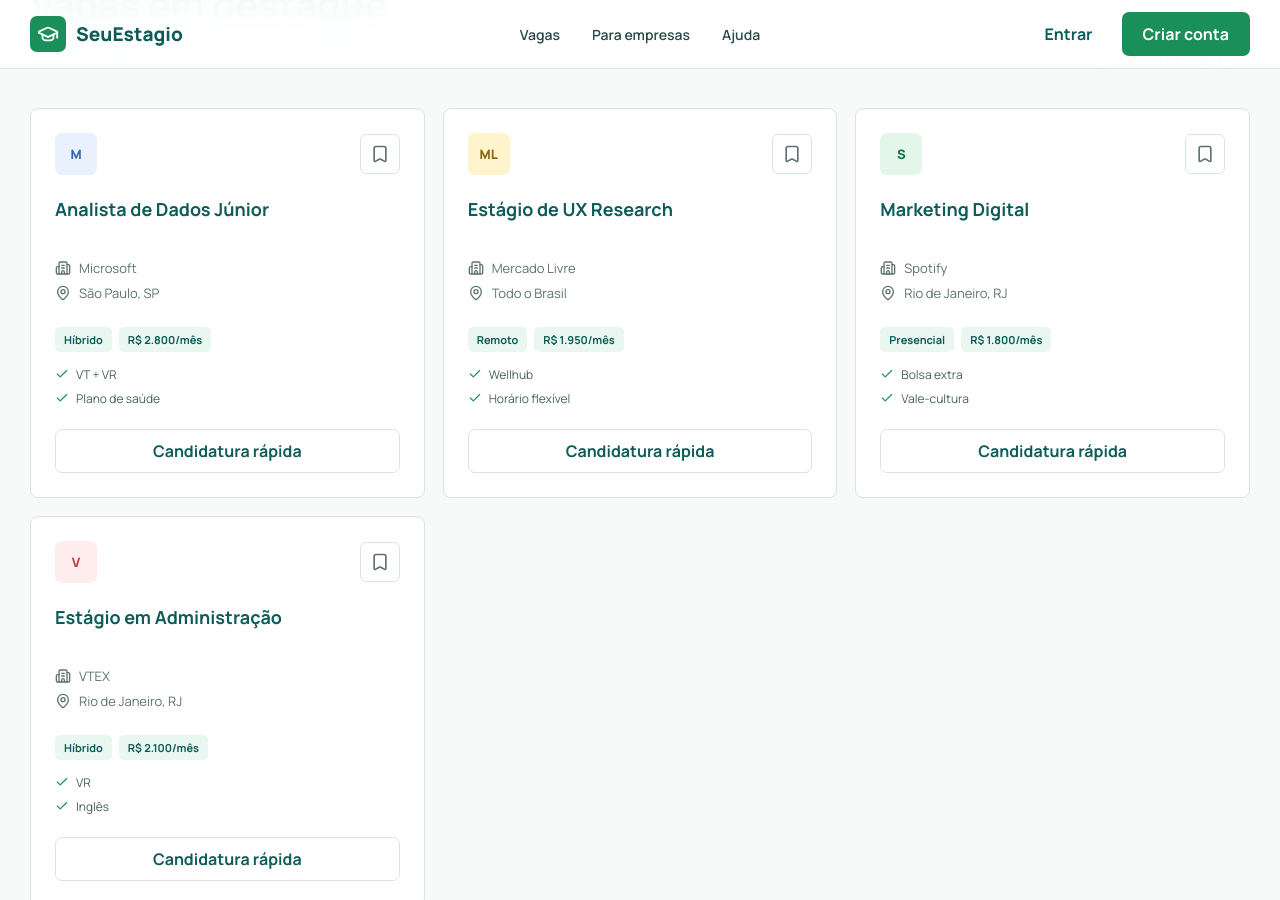
Test case: opens prototype guidance instead of submitting an application
(page scrolled)
Click the button "Candidatura rápida" below "Plano de saúde" at (227, 451), box x1=55 y1=429 x2=400 y2=473
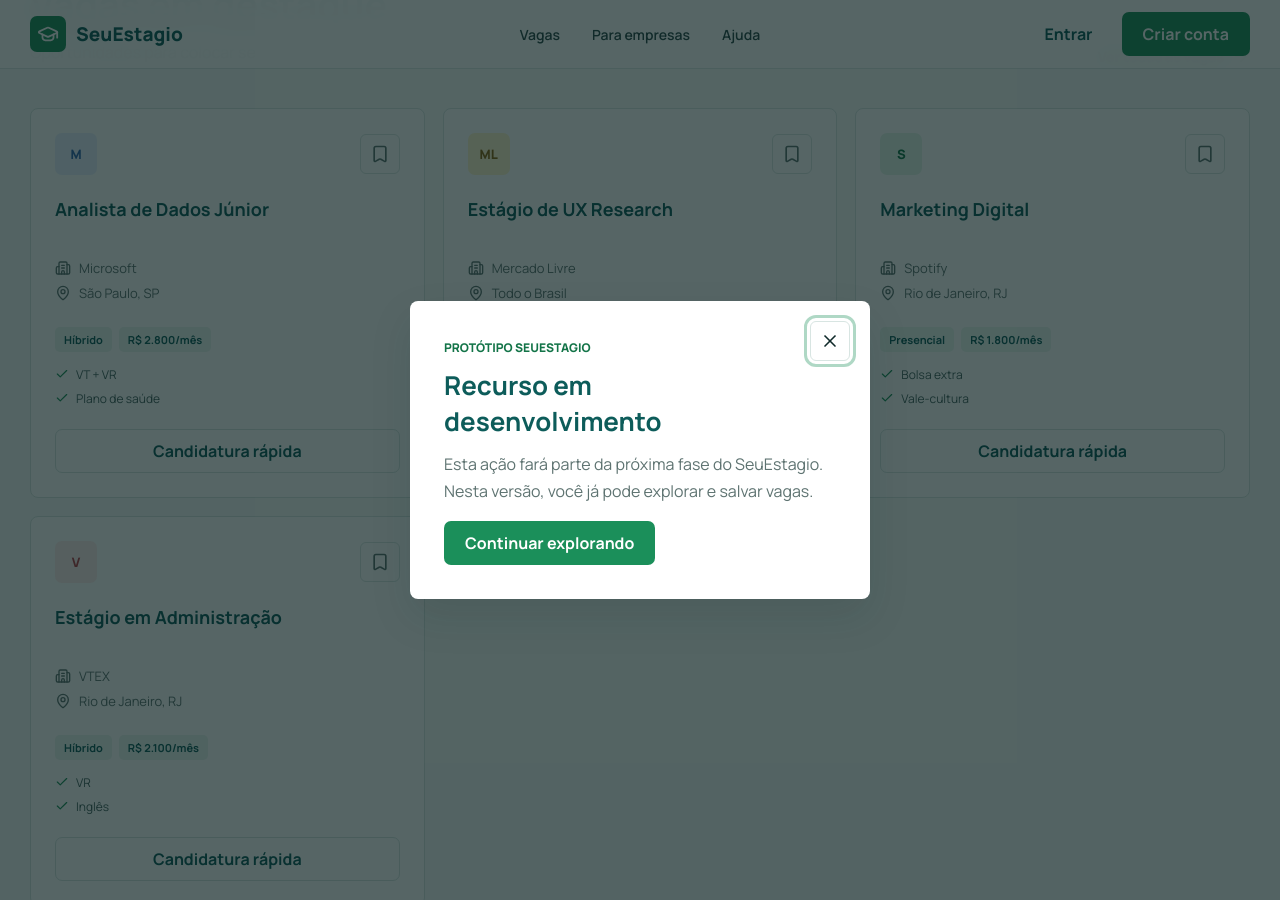
Expected: the dialog "Recurso em desenvolvimento" is shown, x1=410 y1=301 x2=870 y2=599
